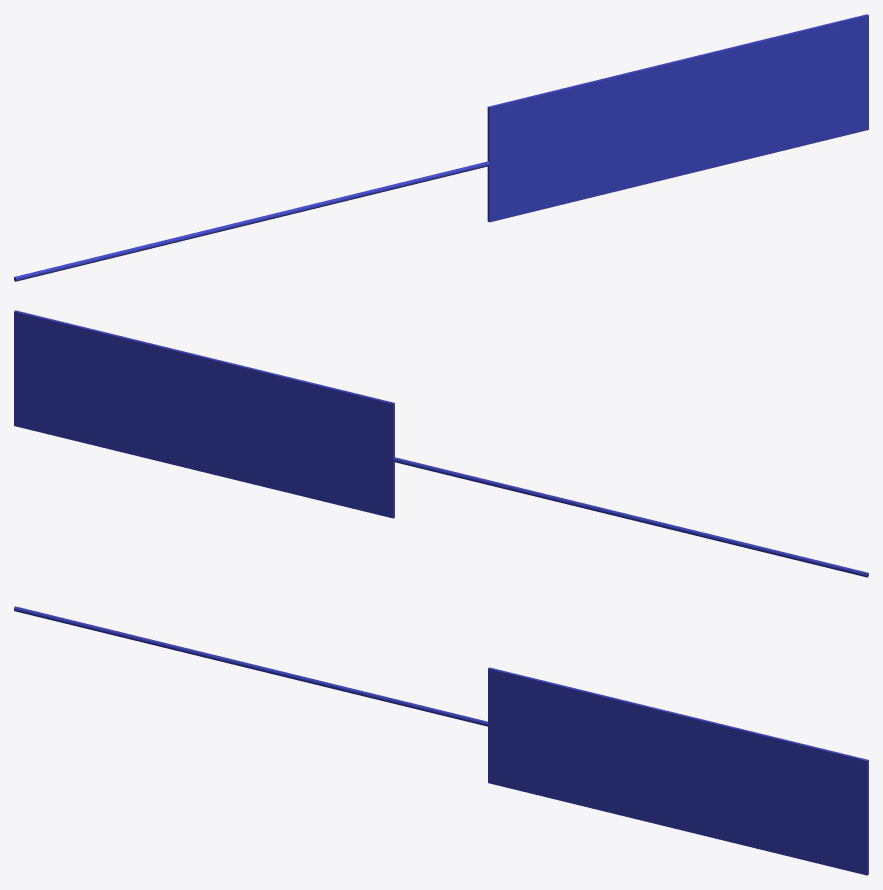
The model's file is htp.fbx.
3 views of the same model, one above another, from view 1: azimuth 30°, elevation 25°; view 2: azimuth 150°, elevation 25°; view 3: azimuth 330°, elevation 25° (orthographic).
Visible parts, largest first — view 1: root (×2); view 2: root (×2); view 3: root (×2).
Boxes of the visible parts, x1,y1,x2,y2 form: root (×2): (14, 14, 868, 281); root (×2): (14, 310, 868, 577); root (×2): (14, 606, 868, 875).
Bounding box in the file's own units: 1.49 × 0.1911 × 0.00647.
